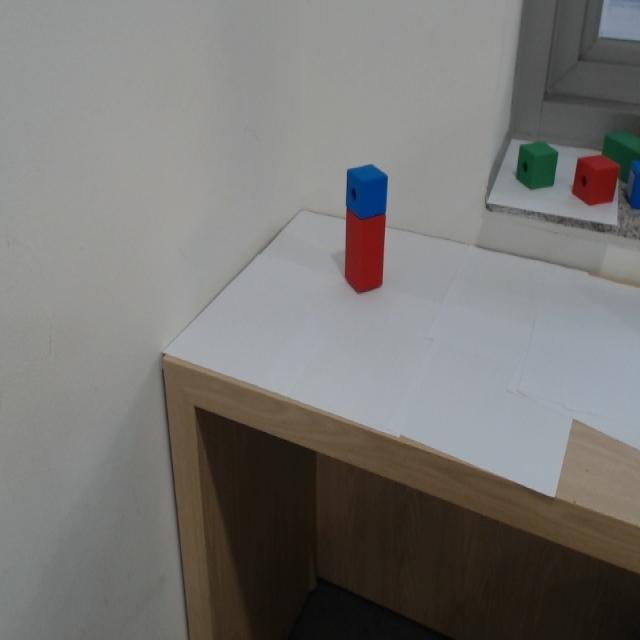cube: (334, 157, 401, 225)
